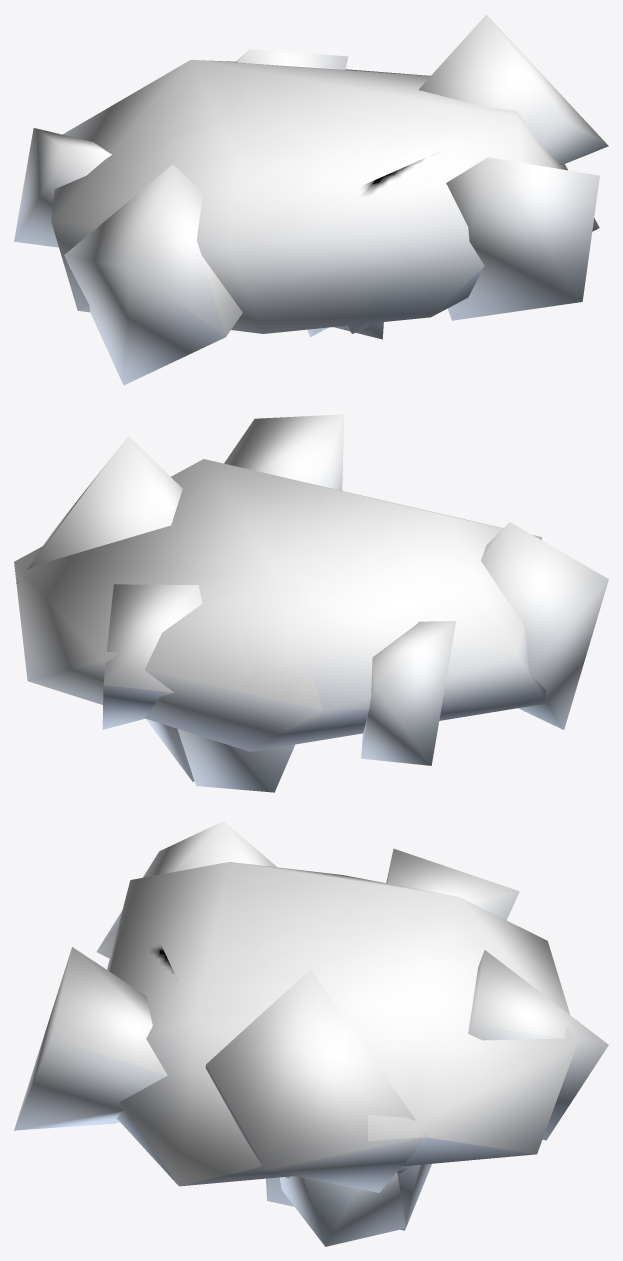
The model's file is cloud_island_b_lod1.gltf.
The picture shows the model from 3 angles, top to bottom: view 1: azimuth 30°, elevation 25°; view 2: azimuth 150°, elevation 25°; view 3: azimuth 270°, elevation 25°; orthographic projection. The views are drawn at different scales.
Visible parts, largest first — view 1: cloud_island_b_LOD1; view 2: cloud_island_b_LOD1; view 3: cloud_island_b_LOD1.
Boxes of the visible parts, bbox=[...] form: cloud_island_b_LOD1: bbox=[14, 14, 608, 385]; cloud_island_b_LOD1: bbox=[14, 414, 608, 792]; cloud_island_b_LOD1: bbox=[14, 821, 608, 1246].
Bounding box in the file's own units: 3.11 × 1.71 × 2.87.
Materials: 1 (1 with a texture image).
